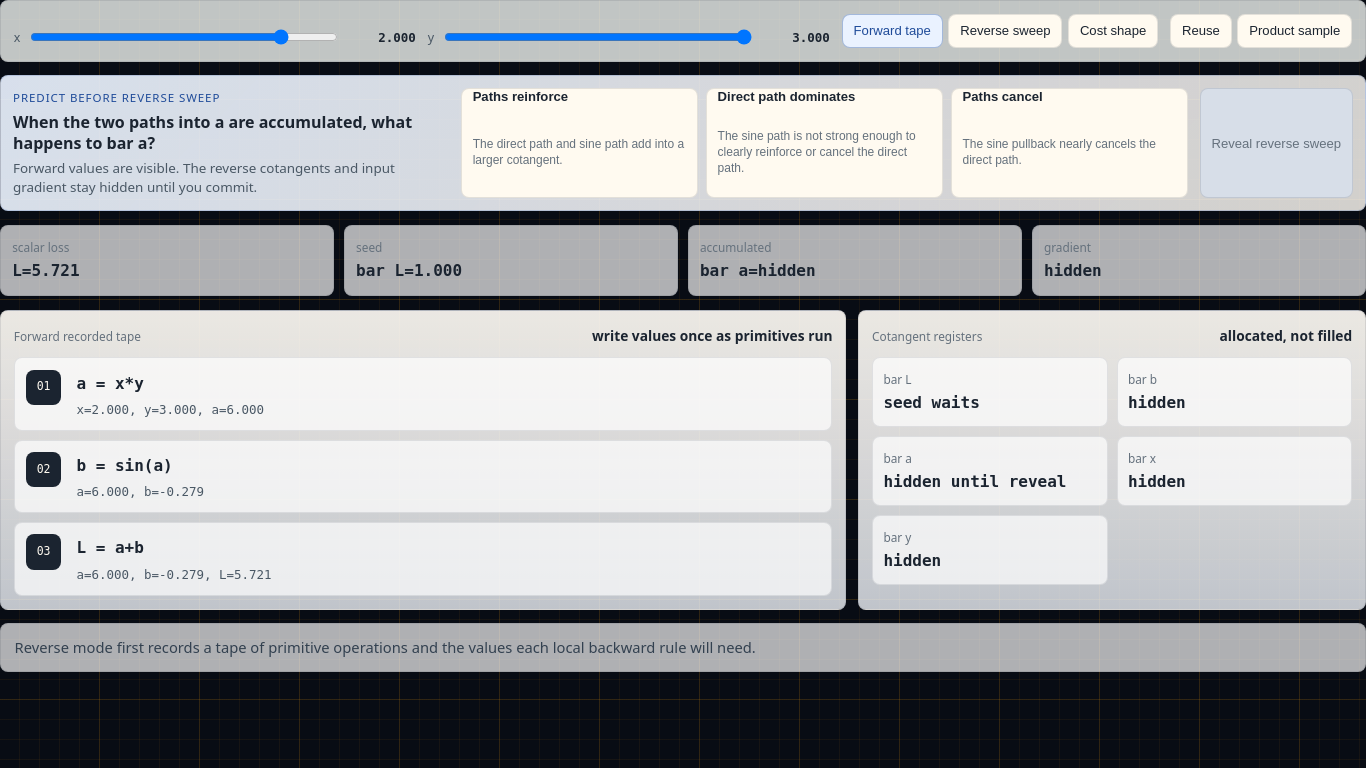
Scenario: ReverseModeAutodiffViz prediction reveal › resets the reveal when a preset changes the cotangent regime
Click the button "Paths reinforce" at x=580, y=143, box [461,88,698,198]
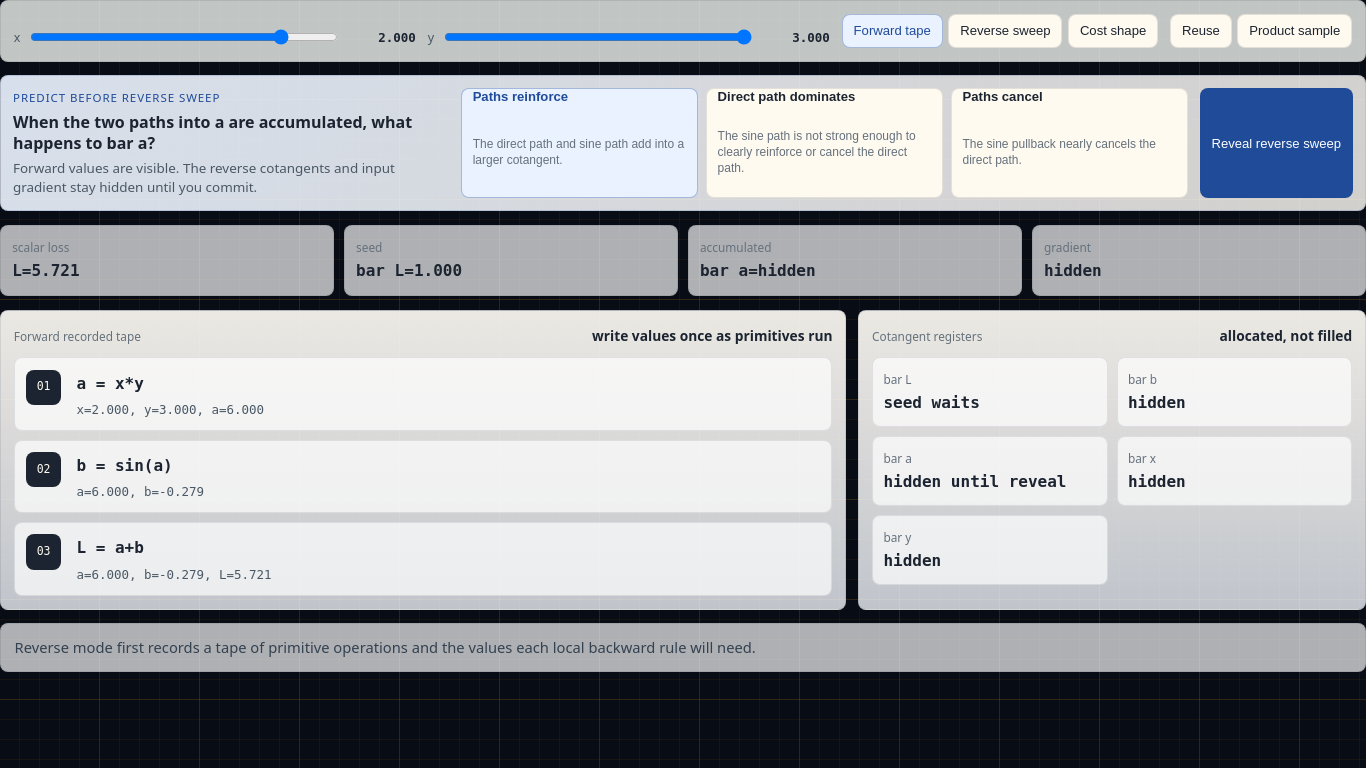
Click the button "Reveal reverse sweep" at x=1276, y=143, box [1200,88,1353,198]
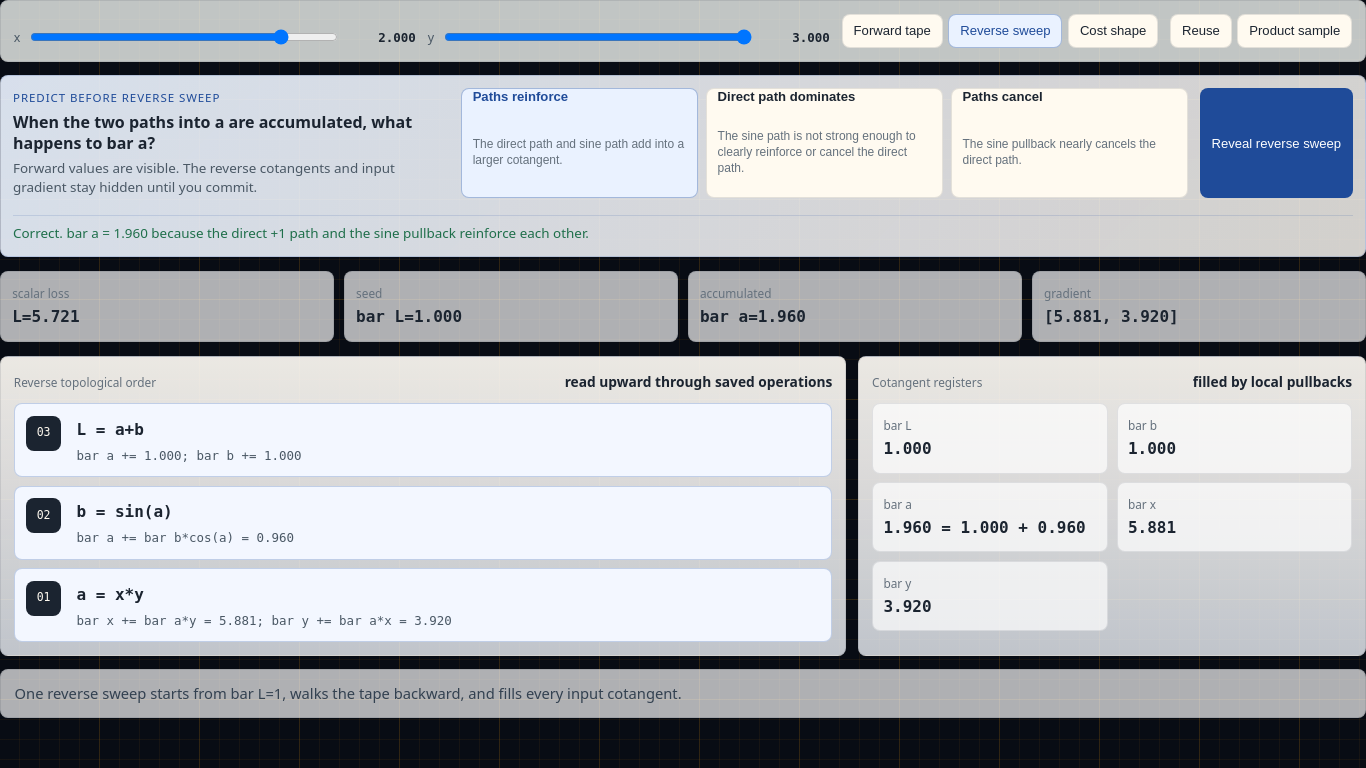
Expected: the text "1.960 = 1.000 + 0.960" is shown, [883,518,1086,537]
Click the button "Product sample" at x=1295, y=31, box [1237,14,1352,48]
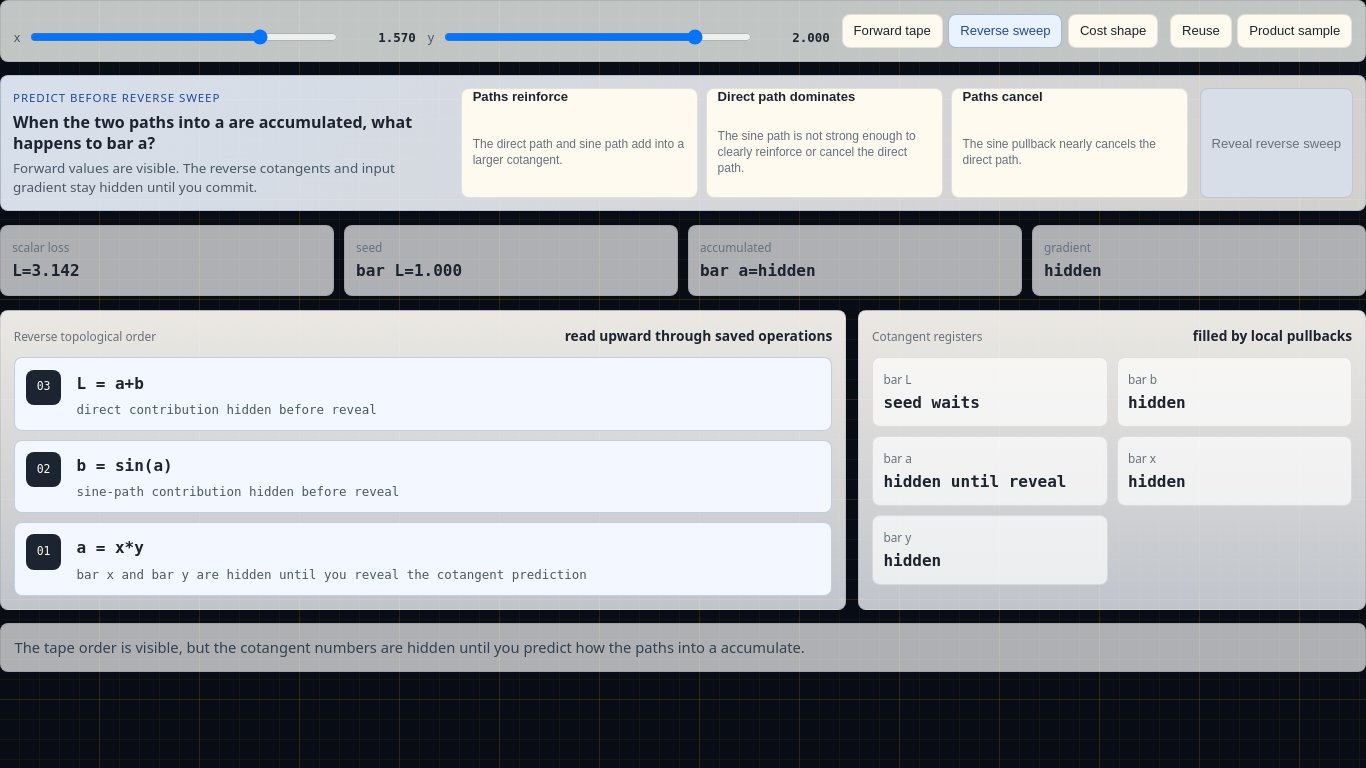
Expected: the text "bar a=hidden" is shown, [700,261,816,280]
